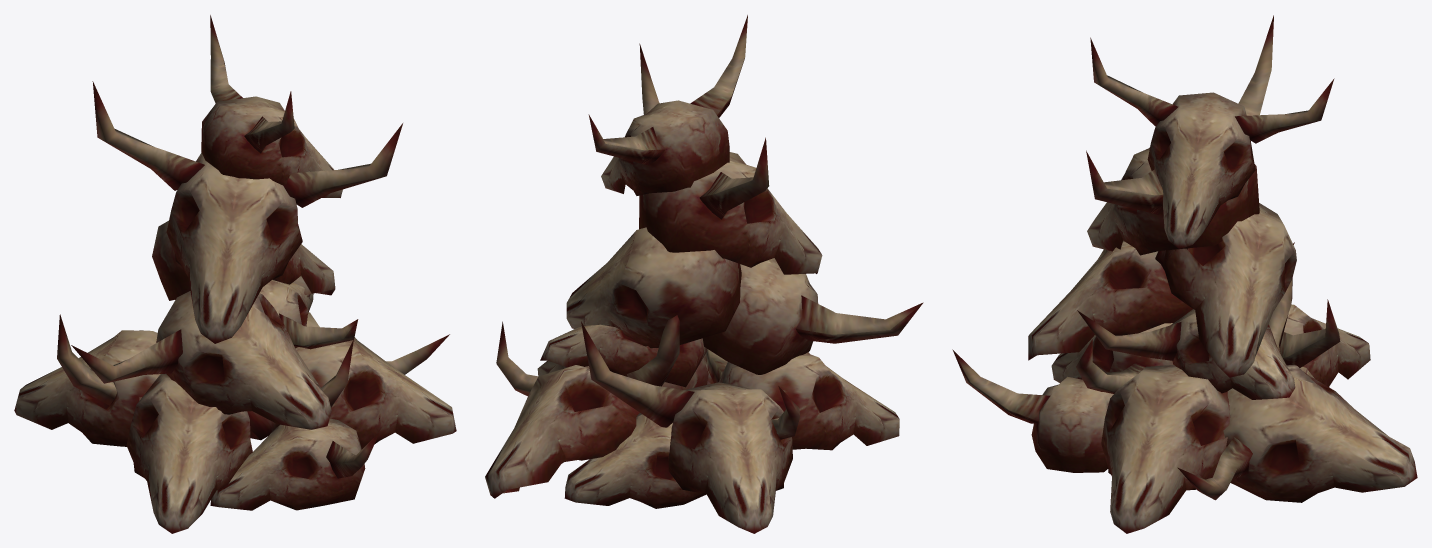
The model's file is shakian_object_altarbone01_02.FBX.
3 views of the same model, side by side, from view 1: azimuth 30°, elevation 25°; view 2: azimuth 150°, elevation 25°; view 3: azimuth 270°, elevation 25° (orthographic).
Visible parts, largest first — view 1: shakian_object_altarbone01_02; view 2: shakian_object_altarbone01_02; view 3: shakian_object_altarbone01_02.
Part boxes in pixels (<box>): shakian_object_altarbone01_02: <box>14,15,456,533</box>; shakian_object_altarbone01_02: <box>485,15,923,533</box>; shakian_object_altarbone01_02: <box>952,15,1417,533</box>.
Bounding box in the file's own units: 2.49 × 2.43 × 2.46.
